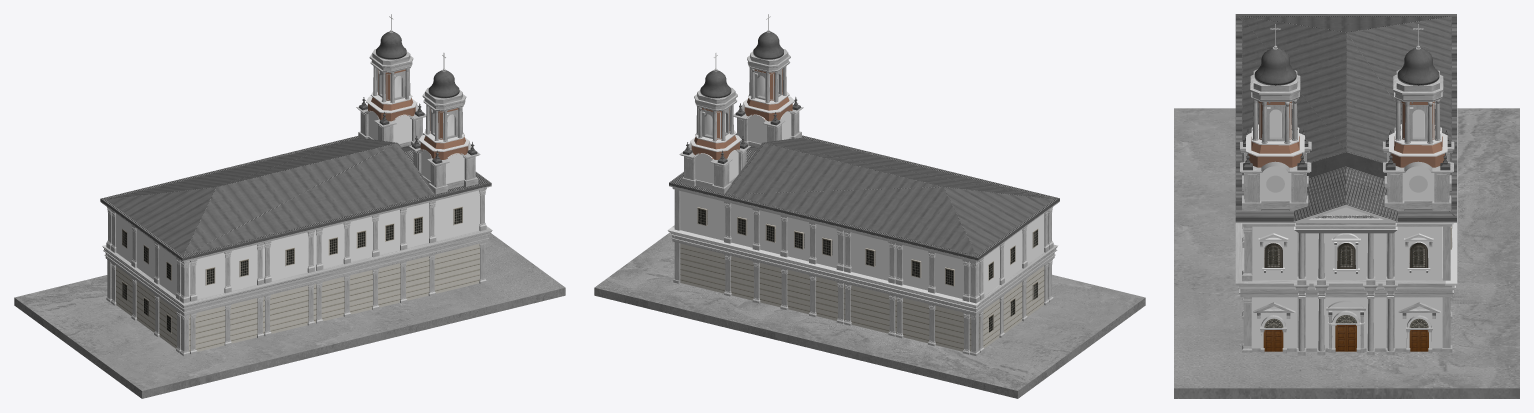
Rendered from San Ignacio.glb.
3 views of the same model, side by side, from view 1: azimuth 30°, elevation 25°; view 2: azimuth 150°, elevation 25°; view 3: azimuth 270°, elevation 25° (orthographic). The views are drawn at different scales.
Visible parts, largest first — view 1: Cube.005, Cylinder.093, Cube.001, Cube, Cube.109, Cube.180, Cube.1003, Circle.003, Cylinder.014, Cube.019; view 2: Cube.005, Cylinder.093, Cube.001, Cube, Cube.109, Cube.019, Cube.180, Cube.1003, Circle.003, Cylinder.014; view 3: Cube.005, Cube.001, Cylinder.093, Cube, Cube.019, Cube.180, Circle.003, Cylinder.053, Cylinder.014, Cube.382, Circle.033, Circle.030.
Part boxes in pixels (<box>): Cube.005: <box>14,232,565,398</box>; Cylinder.093: <box>106,138,433,255</box>; Cube.001: <box>100,30,492,356</box>; Cube: <box>111,74,479,299</box>; Cube.109: <box>111,243,479,351</box>; Cube.180: <box>100,133,491,260</box>; Cube.1003: <box>122,206,462,333</box>; Circle.003: <box>357,31,477,194</box>; Cylinder.014: <box>368,69,468,159</box>; Cube.019: <box>102,14,490,305</box>; Cube.005: <box>594,232,1145,398</box>; Cylinder.093: <box>726,138,1053,255</box>; Cube.001: <box>669,30,1059,356</box>; Cube: <box>680,74,1044,298</box>; Cube.109: <box>680,243,1044,351</box>; Cube.019: <box>667,14,1054,312</box>; Cube.180: <box>669,134,1059,260</box>; Cube.1003: <box>697,207,1038,333</box>; Circle.003: <box>683,31,801,194</box>; Cylinder.014: <box>691,69,792,159</box>; Cube.005: <box>1174,108,1519,398</box>; Cube.001: <box>1235,45,1456,355</box>; Cylinder.093: <box>1242,16,1451,175</box>; Cube: <box>1251,109,1442,347</box>; Cube.019: <box>1240,24,1457,352</box>; Cube.180: <box>1235,14,1456,221</box>; Circle.003: <box>1243,48,1451,178</box>; Cylinder.053: <box>1293,166,1397,221</box>; Cylinder.014: <box>1248,101,1444,167</box>; Cube.382: <box>1263,325,1428,351</box>; Circle.033: <box>1264,242,1428,268</box>; Circle.030: <box>1264,315,1428,327</box>.
Size of the model in its own units: 106 by 56.23 by 55.2.
14 materials, 12 textured.
